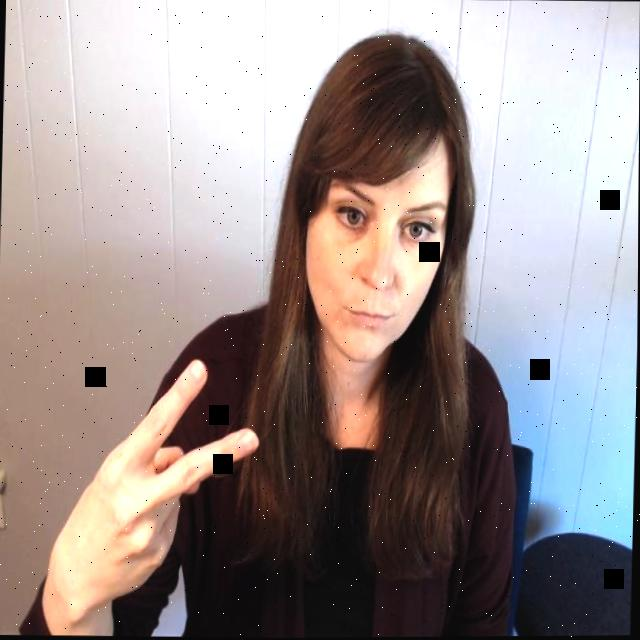Scissors: (59, 354, 259, 606)
